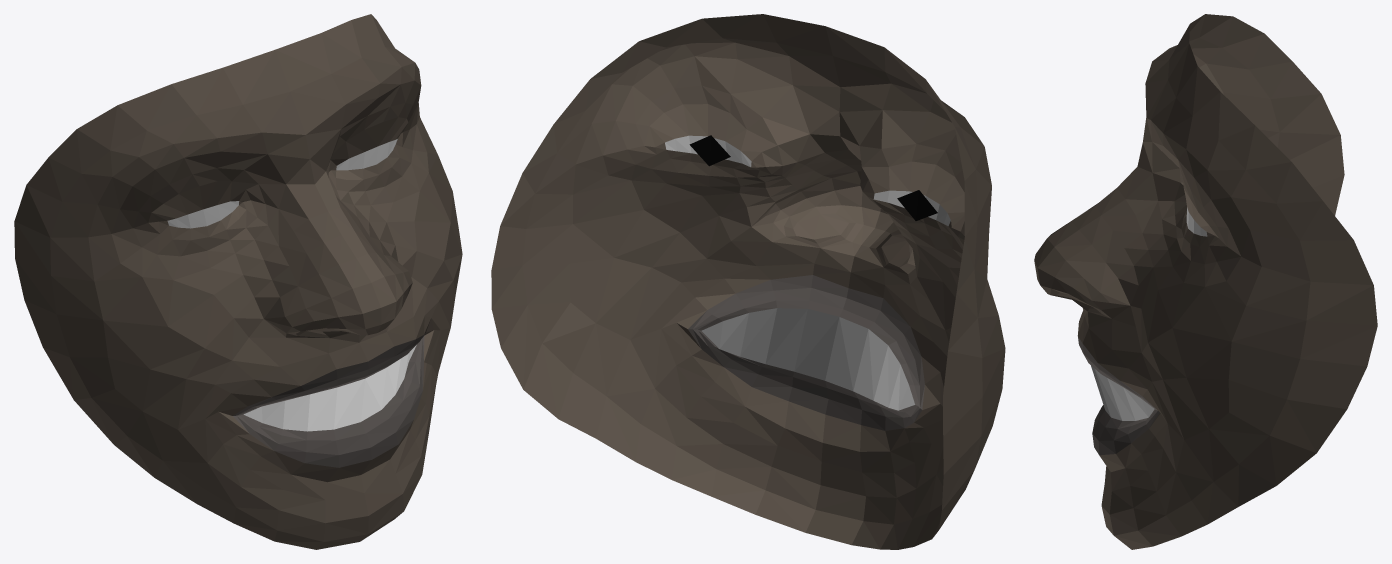
Rendered from 68745309918__E5BA6014-0DE2-418E-AAB1-F19FE0220755.obj.
3 renders of one model, left to right at view 1: azimuth 30°, elevation 25°; view 2: azimuth 150°, elevation 25°; view 3: azimuth 270°, elevation 25°, orthographic. The views are drawn at different scales.
Parts seen in each view (by area): view 1: face_model_with_iris; view 2: face_model_with_iris; view 3: face_model_with_iris.
Boxes of the visible parts, <box> form: face_model_with_iris: <box>14,14,462,549</box>; face_model_with_iris: <box>491,14,1005,549</box>; face_model_with_iris: <box>1034,14,1377,549</box>.
Size of the model in its own units: 0.852 by 0.9932 by 0.6521.
